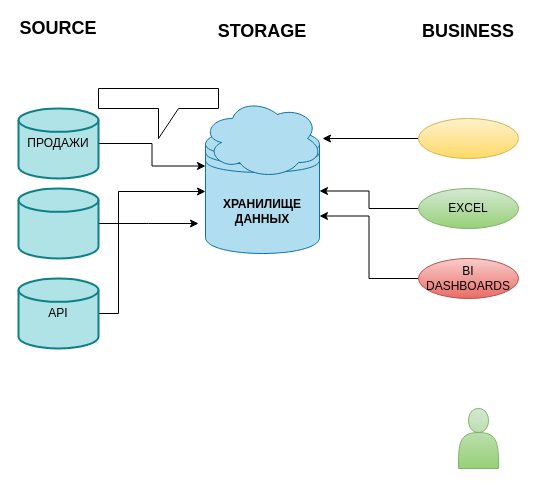
This 536x486 diagram has some shape labels left out. The shapes that lost their labels are listed below. From the top down, each one's centre as x and y in pixels, then its label:
(158,113): ETL
(468,138): SQL
(58,223): CRM
